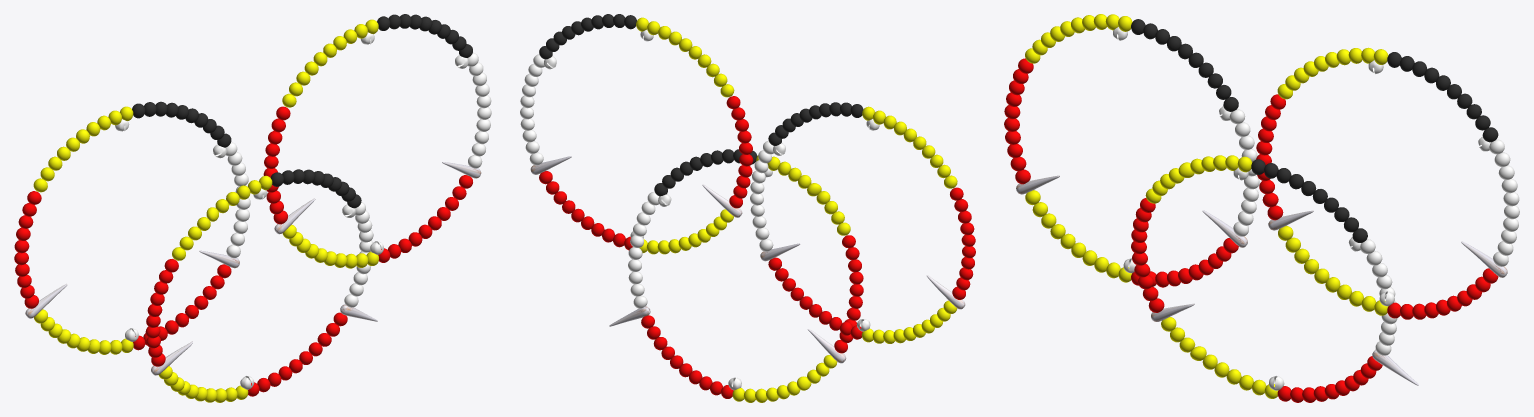
File: coloredBracelets.fbx
3 views of the same model, side by side, from view 1: azimuth 30°, elevation 25°; view 2: azimuth 150°, elevation 25°; view 3: azimuth 330°, elevation 25° (orthographic). The views are drawn at different scales.
Visible parts, largest first — view 1: polySurface228; view 2: polySurface228; view 3: polySurface228.
Boxes of the visible parts, x1=… form: polySurface228: x1=14, y1=14, x2=491, y2=402; polySurface228: x1=520, y1=14, x2=975, y2=402; polySurface228: x1=1004, y1=14, x2=1519, y2=402.
Size of the model in its own units: 7.35 by 5.34 by 0.8832.
6 materials, 1 textured.
